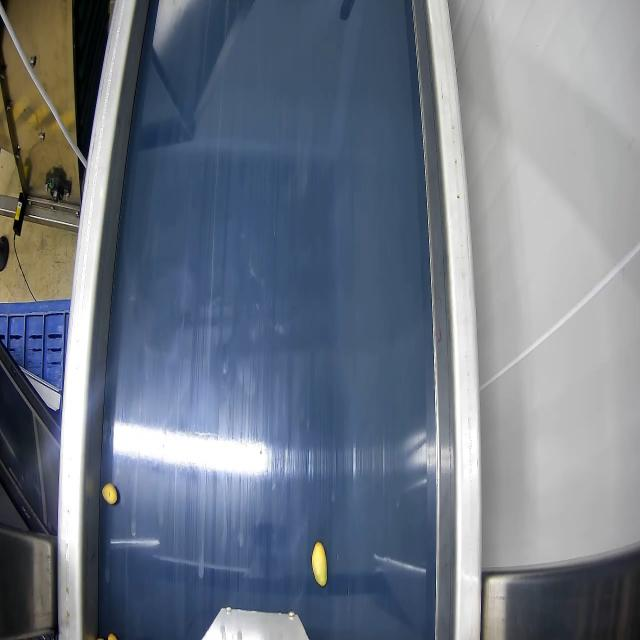Baby Potato: (312, 540, 328, 588), (100, 482, 122, 508)
